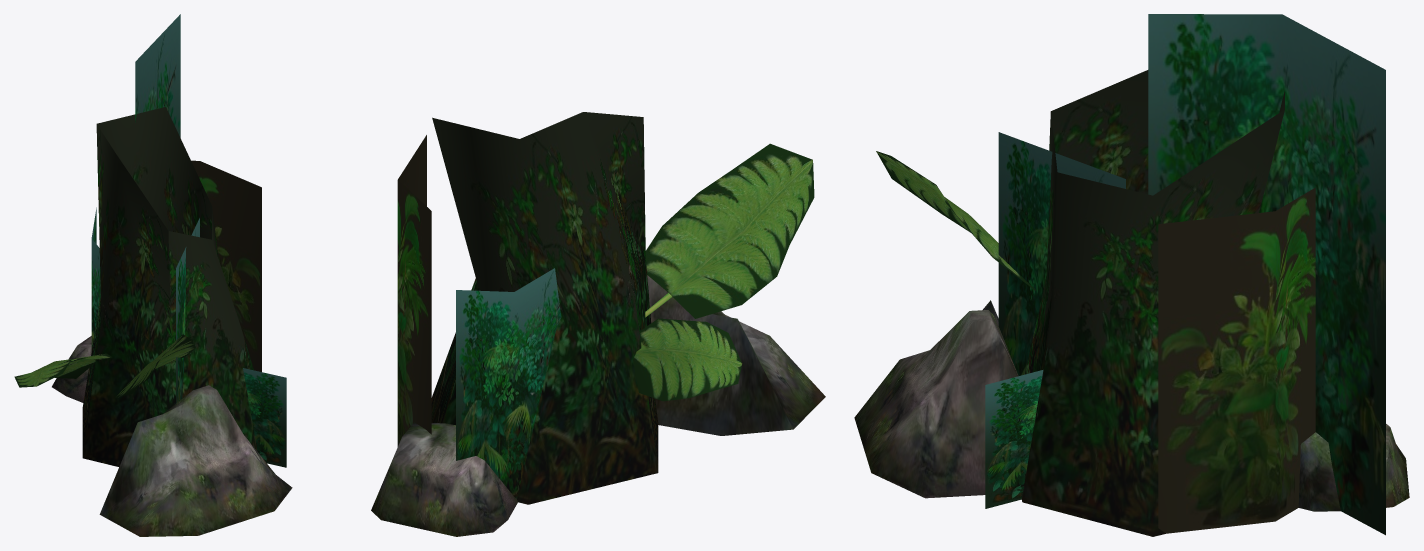
Rendered from bush_c.fbx.
3 views of the same model, side by side, from view 1: azimuth 30°, elevation 25°; view 2: azimuth 150°, elevation 25°; view 3: azimuth 270°, elevation 25° (orthographic). The views are drawn at different scales.
Parts seen in each view (by area): view 1: vine, rock7, plant_plane00, plant_plane03, plant_plane02, leaf00, plant_plane01, leaf01, rock8, plant_plane04; view 2: vine, leaf01, plant_plane04, rock7, rock8, plant_plane00, leaf00; view 3: plant_plane03, vine, plant_plane00, rock7, plant_plane01, plant_plane02, rock8, leaf01.
Boxes of the visible parts, x1,y1,x2,y2 form: vine: [82, 107, 257, 466]; rock7: [99, 385, 292, 536]; plant_plane00: [191, 160, 261, 371]; plant_plane03: [135, 14, 180, 137]; plant_plane02: [243, 368, 286, 467]; leaf00: [14, 353, 111, 387]; plant_plane01: [176, 218, 199, 403]; leaf01: [115, 334, 195, 397]; rock8: [52, 336, 91, 402]; plant_plane04: [91, 207, 100, 350]; vine: [431, 112, 658, 504]; leaf01: [645, 143, 814, 318]; plant_plane04: [456, 268, 561, 498]; rock7: [647, 275, 825, 435]; rock8: [371, 422, 517, 536]; plant_plane00: [397, 135, 431, 446]; leaf00: [633, 318, 742, 401]; plant_plane03: [1148, 14, 1385, 535]; vine: [1021, 70, 1284, 536]; plant_plane00: [1158, 187, 1315, 533]; rock7: [854, 300, 1018, 498]; plant_plane01: [998, 132, 1125, 375]; plant_plane02: [985, 370, 1043, 508]; rock8: [1298, 424, 1409, 511]; leaf01: [876, 151, 1035, 290].
Size of the model in its own units: 1067 by 1390 by 1502.
2 materials, 2 textured.
